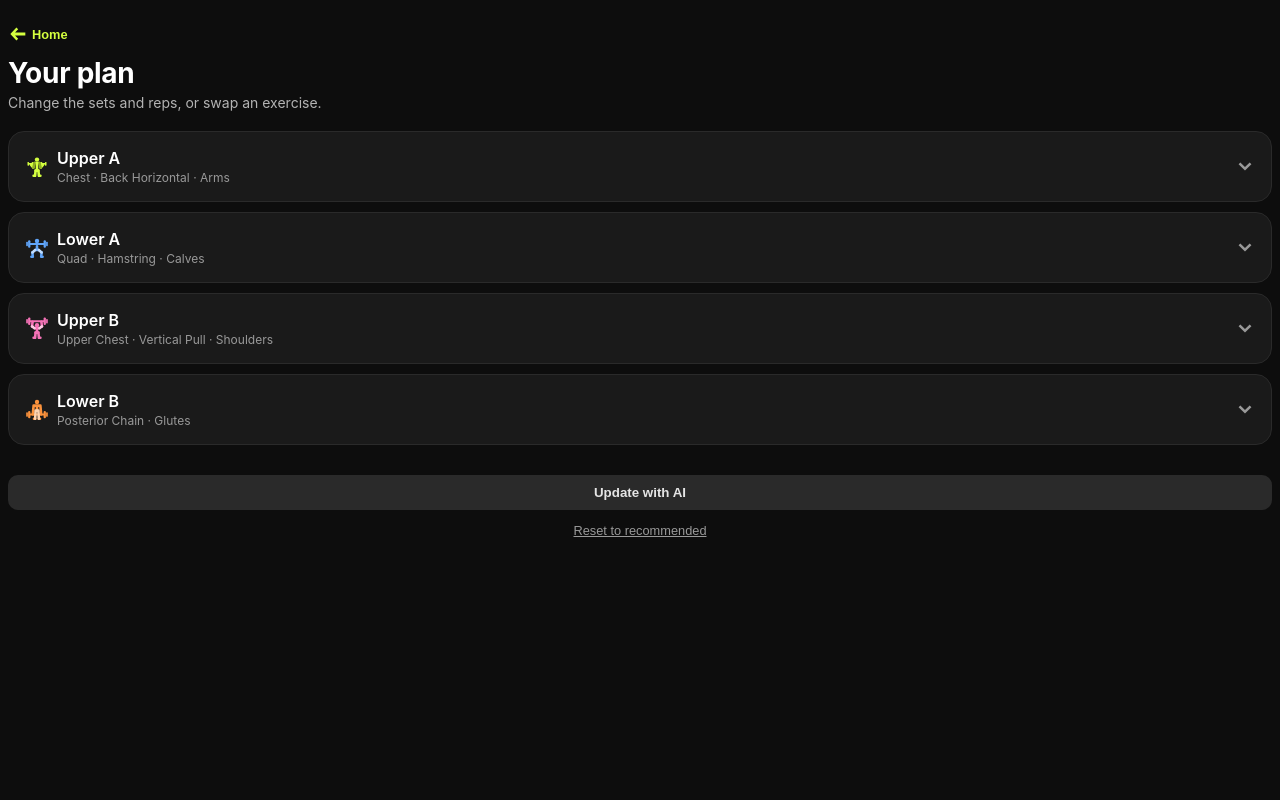
Test: Plan reset › shows the finish-first message when a workout is open
This screenshot has width=1280, height=800.
Step 1. Click the button "Reset to recommended" → [640, 530], box x1=568 y1=522 x2=712 y2=539
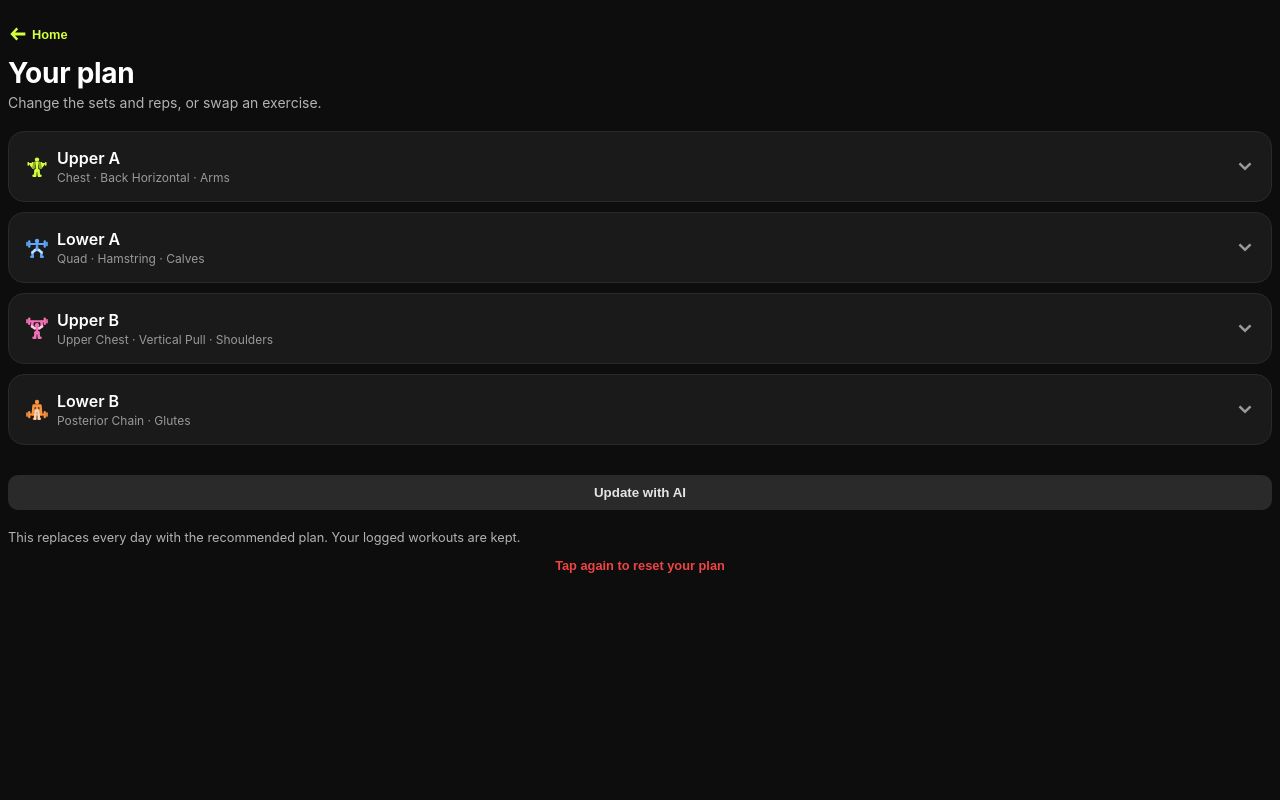
Step 2. Click the button "Tap again to reset your plan" → [640, 566], box x1=549 y1=557 x2=731 y2=574
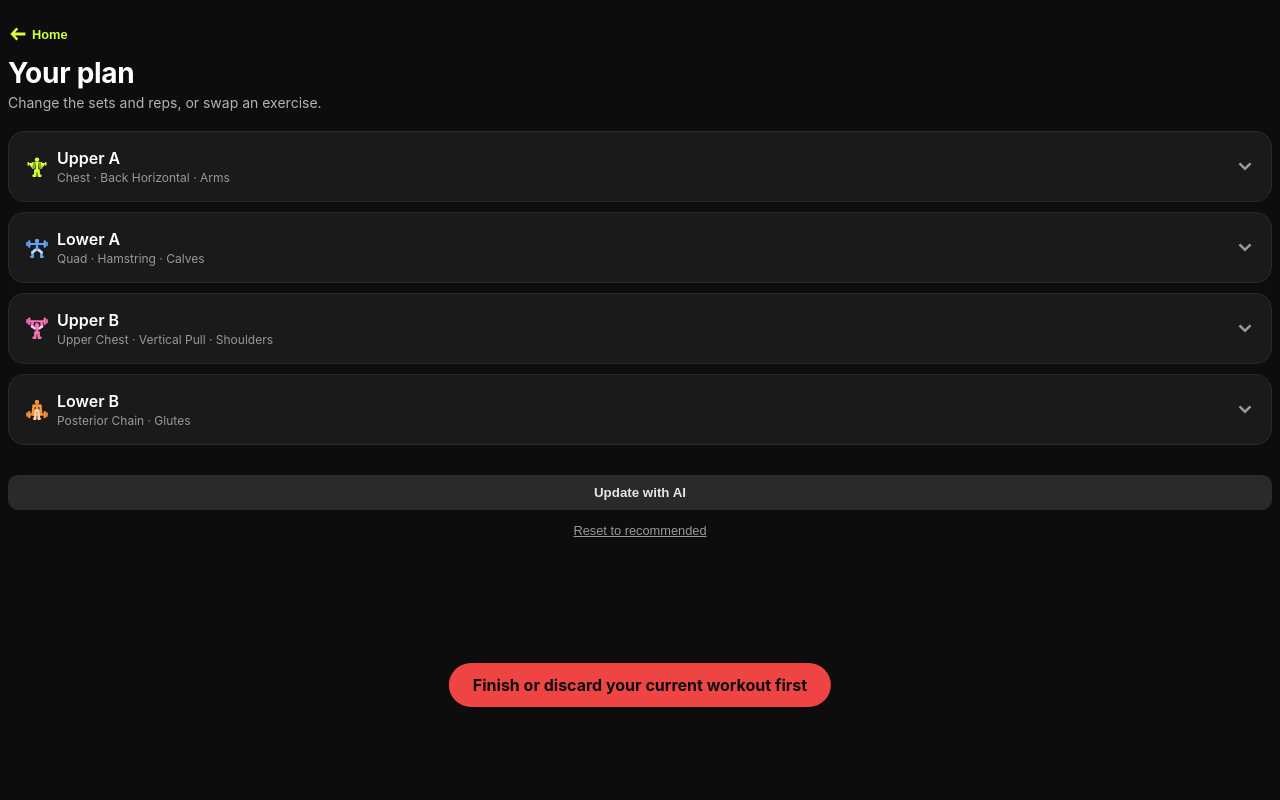
Expected: the message reads "Finish or discard your current workout first", x1=473 y1=675 x2=807 y2=695
